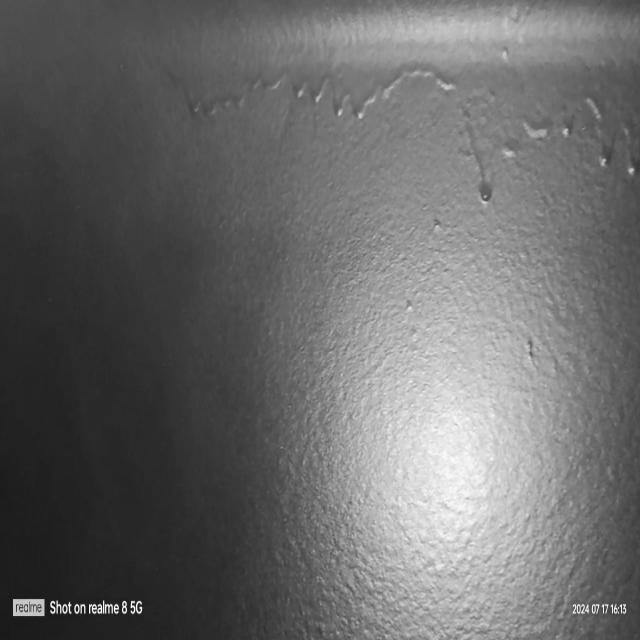paint drips: (155, 42, 640, 222)
